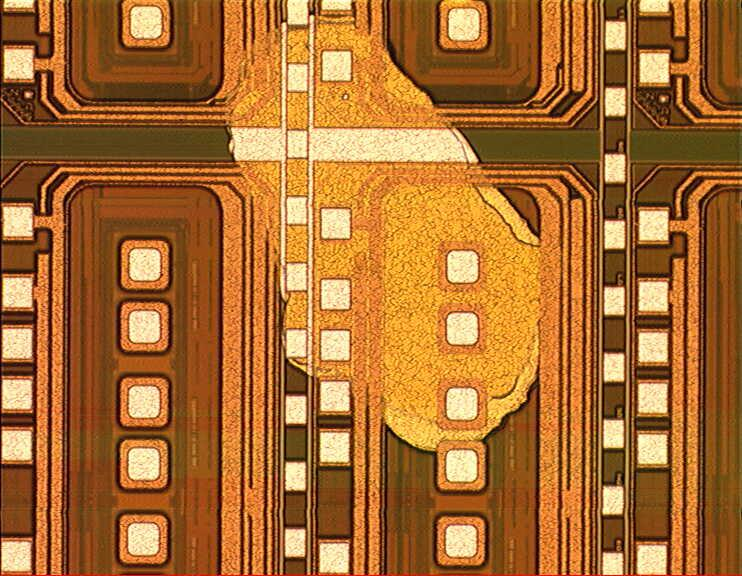BLOCK ETCH: (224, 3, 558, 463)
